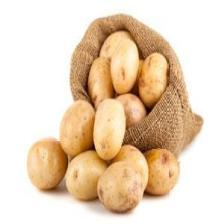Potato: (94, 161, 144, 214), (25, 135, 69, 191), (59, 100, 99, 159), (64, 151, 110, 201), (138, 148, 181, 198), (93, 98, 126, 161), (138, 51, 169, 107), (110, 39, 139, 95), (86, 57, 116, 107)
